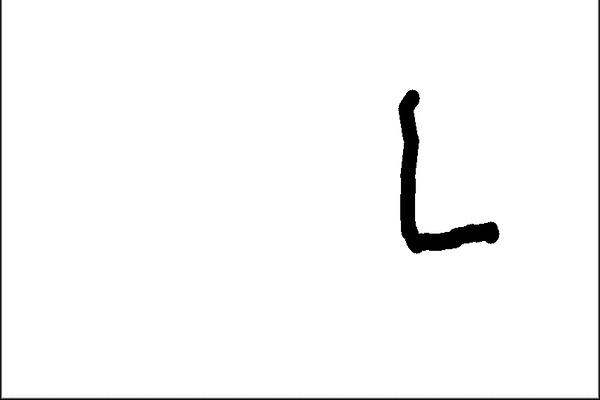L: (391, 80, 502, 260)
